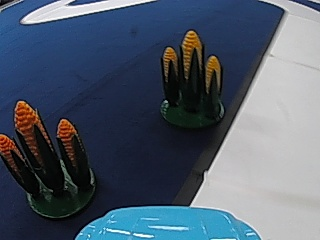corn: (3, 97, 98, 215), (156, 26, 227, 129)
